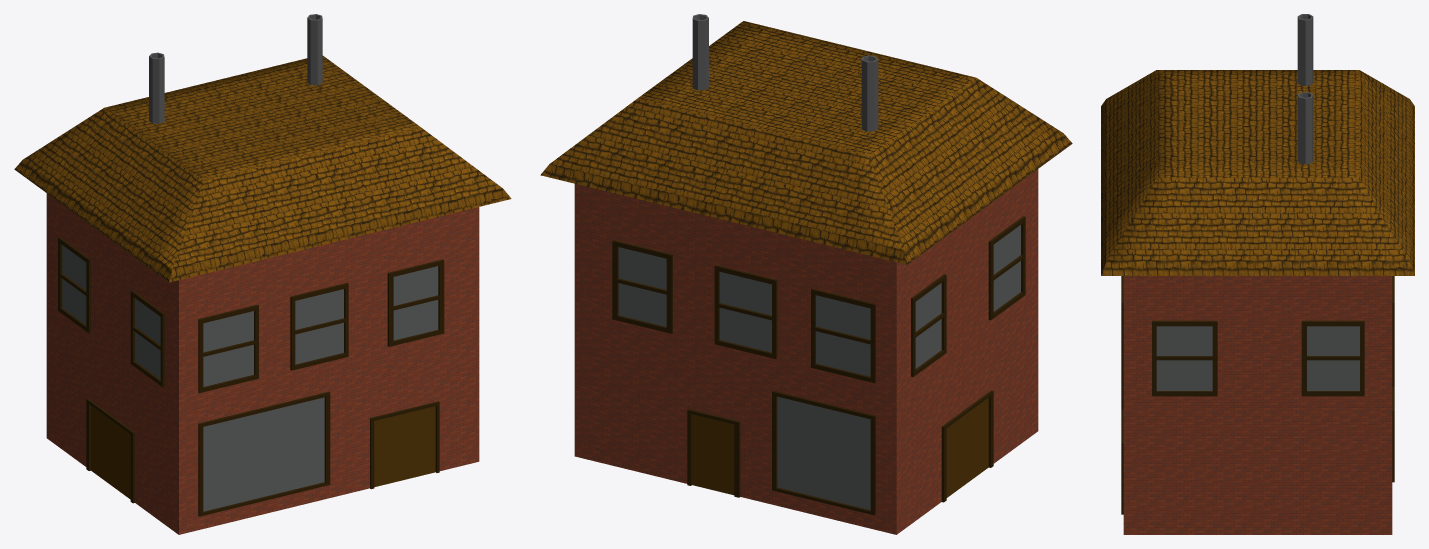
The model's file is StoreFront01.fbx.
3 views of the same model, side by side, from view 1: azimuth 30°, elevation 25°; view 2: azimuth 150°, elevation 25°; view 3: azimuth 270°, elevation 25° (orthographic). The views are drawn at different scales.
Visible parts, largest first — view 1: StoreFront01, StoreFront01_Chimney01, StoreFront01_Chimney02; view 2: StoreFront01, StoreFront01_Chimney01, StoreFront01_Chimney02; view 3: StoreFront01, StoreFront01_Chimney02, StoreFront01_Chimney01.
Boxes of the visible parts, box(x1,y1,x2,y2) form: StoreFront01: box(14, 55, 511, 534); StoreFront01_Chimney01: box(149, 52, 164, 123); StoreFront01_Chimney02: box(307, 14, 322, 85); StoreFront01: box(540, 21, 1072, 534); StoreFront01_Chimney01: box(861, 55, 878, 131); StoreFront01_Chimney02: box(692, 14, 708, 90); StoreFront01: box(1101, 70, 1414, 534); StoreFront01_Chimney02: box(1297, 92, 1313, 164); StoreFront01_Chimney01: box(1297, 14, 1313, 86).
Size of the model in its own units: 242 by 268 by 189.
Materials: 6 (2 with a texture image).
